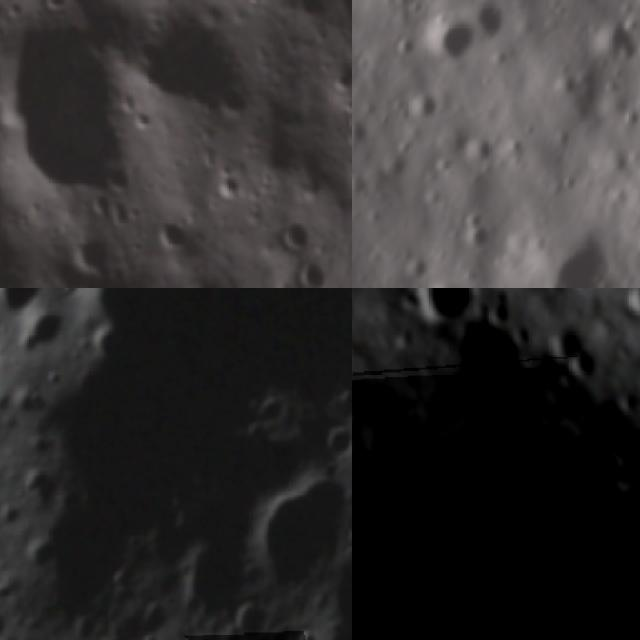crater: (0, 0, 176, 226), (106, 0, 266, 159), (0, 25, 78, 288), (238, 464, 352, 601), (64, 224, 124, 282), (410, 288, 490, 331), (251, 127, 309, 186), (425, 9, 484, 66), (268, 210, 318, 262), (204, 161, 253, 212), (152, 206, 200, 258), (19, 311, 67, 355), (548, 318, 590, 365), (18, 536, 64, 578), (15, 382, 53, 422), (226, 604, 268, 640), (318, 421, 352, 464), (484, 288, 521, 327), (0, 288, 50, 315), (18, 466, 52, 504), (138, 598, 170, 638), (253, 393, 296, 422), (66, 610, 104, 640), (0, 501, 27, 541), (238, 421, 276, 447), (328, 59, 352, 99), (105, 566, 133, 594), (121, 528, 145, 554), (0, 601, 14, 640), (294, 624, 320, 640)
